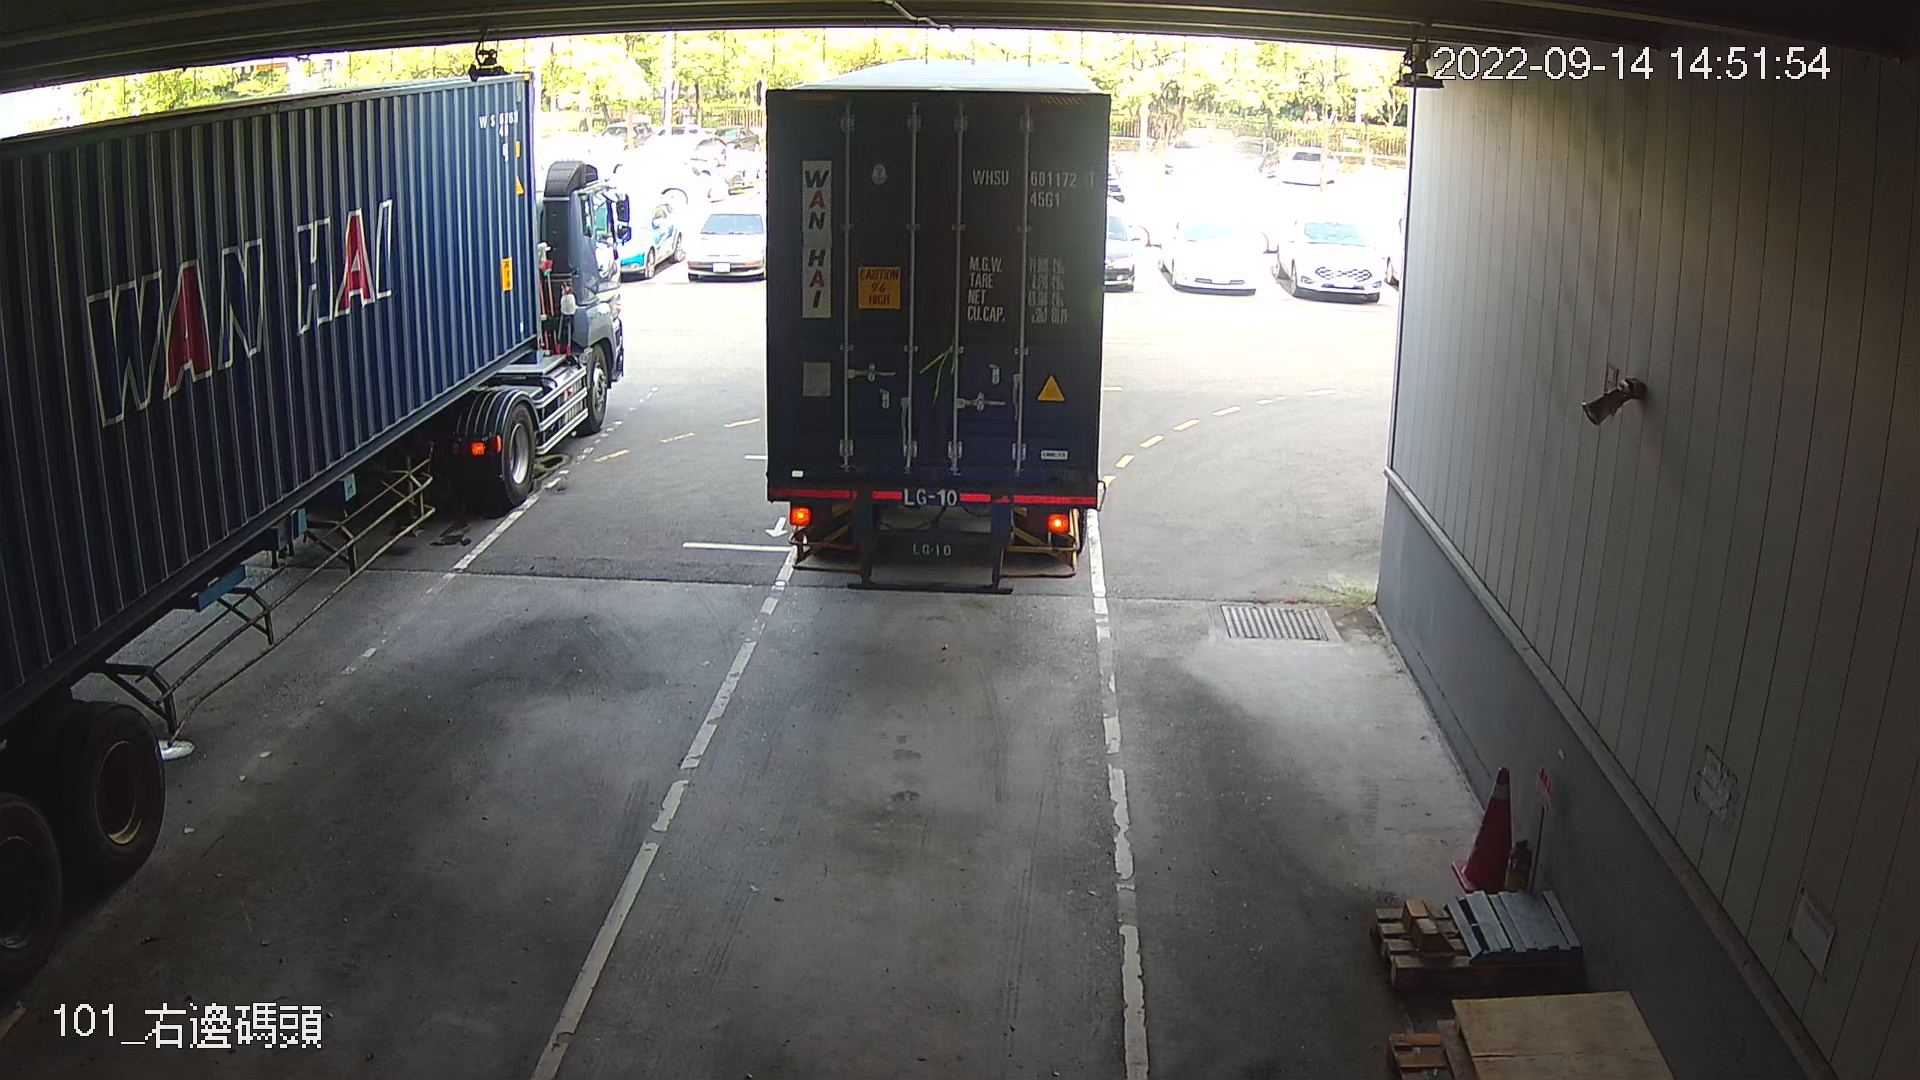container: (964, 157, 1102, 216)
